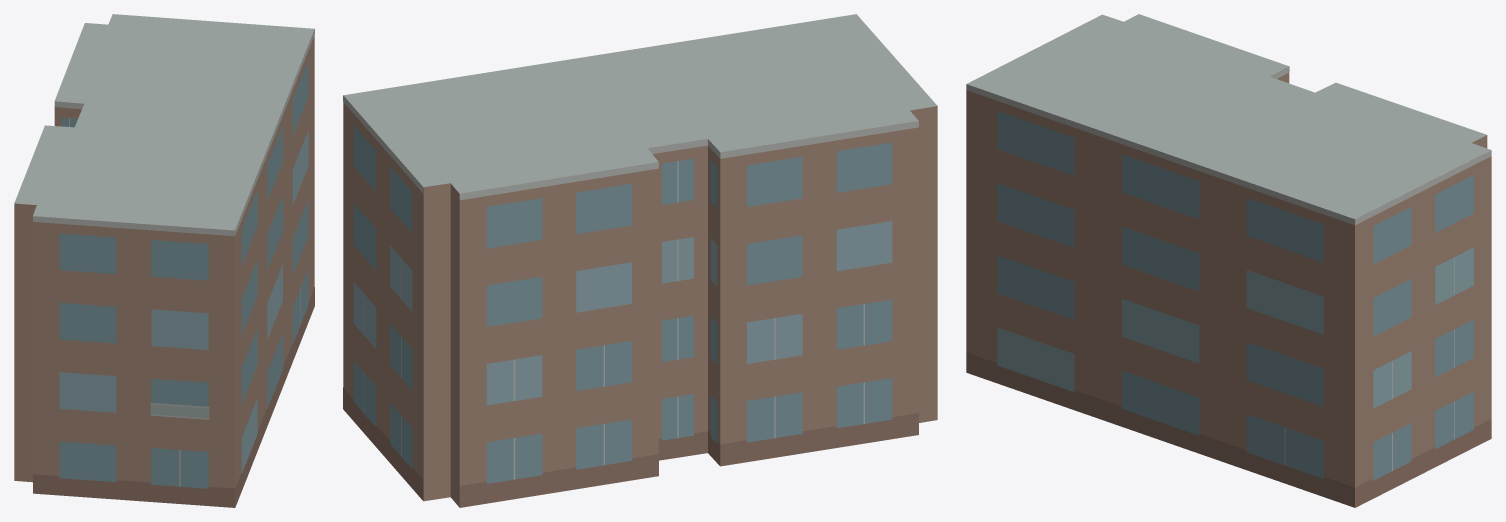
The model's file is survey-upis-32925618.glb.
3 renders of one model, left to right at view 1: azimuth 30°, elevation 25°; view 2: azimuth 150°, elevation 25°; view 3: azimuth 270°, elevation 25°, orthographic. The views are drawn at different scales.
Parts seen in each view (by area): view 1: survey-upis-32925618.tmp; view 2: survey-upis-32925618.tmp; view 3: survey-upis-32925618.tmp.
Boxes of the visible parts, left/top/right/bottom form: survey-upis-32925618.tmp: left=14, top=14, right=314, bottom=507; survey-upis-32925618.tmp: left=343, top=14, right=937, bottom=507; survey-upis-32925618.tmp: left=966, top=14, right=1491, bottom=507.
Bounding box in the file's own units: 17.86 × 11.7 × 19.31.
